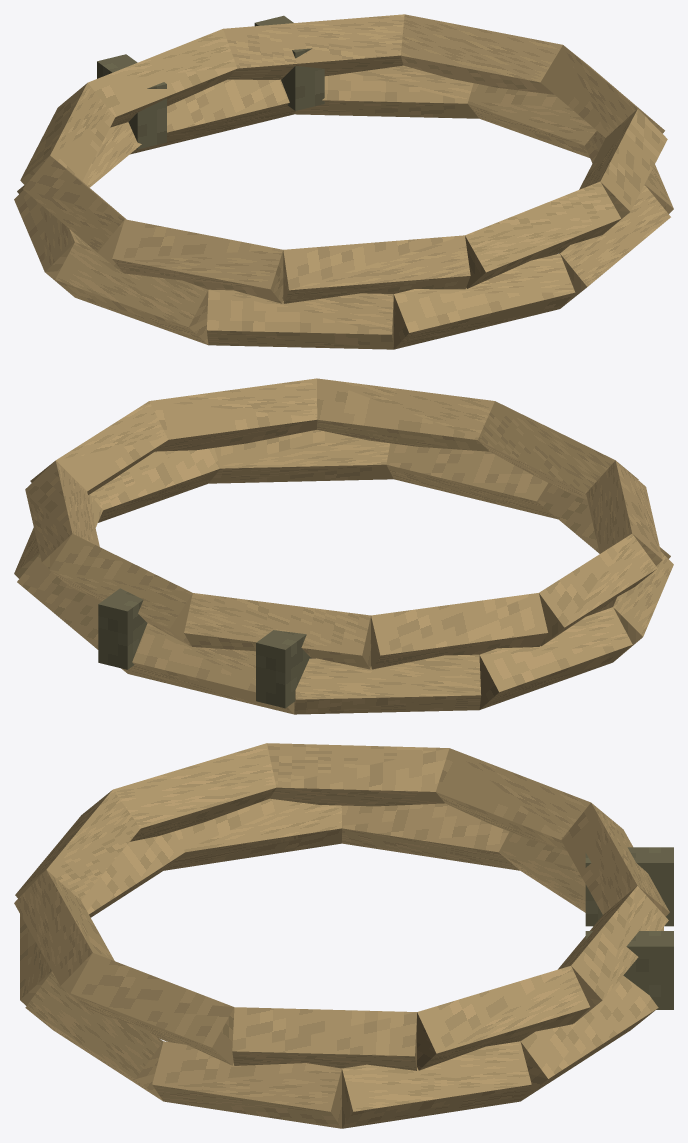
The model's file is rope_6.glb.
3 views of the same model, one above another, from view 1: azimuth 30°, elevation 25°; view 2: azimuth 150°, elevation 25°; view 3: azimuth 270°, elevation 25° (orthographic). The views are drawn at different scales.
Visible parts, largest first — view 1: block_coiled length1-1, block_coiled length0-3, block_coiled length0-2, block_coiled length1-6, block_coiled length1-2, block_coiled length1-7, block_coiled length1-0, block_coiled length0-4, block_coiled length0-8, block_coiled length1-5, block_coiled length0-7, block_coiled length0-9 (+9 smaller); view 2: block_coiled length0-6, block_coiled length1-0, block_coiled length1-4, block_coiled length1-9, block_coiled length1-5, block_coiled length0-1, block_coiled length0-5, block_coiled length0-2, block_coiled rope tie (×2), block_coiled length1-1, block_coiled length1-6, block_coiled length0-7 (+9 smaller); view 3: block_coiled length1-8, block_coiled length0-0, block_coiled length0-9, block_coiled length1-3, block_coiled length1-7, block_coiled length1-9, block_coiled length1-2, block_coiled length1-4, block_coiled length0-4, block_coiled length0-5, block_coiled length0-1, block_coiled length0-8 (+8 smaller).
Boxes of the visible parts, x1,y1,x2,y2 form: block_coiled length1-1: [283, 235, 470, 303]; block_coiled length0-3: [206, 289, 393, 349]; block_coiled length0-2: [393, 253, 575, 349]; block_coiled length1-6: [223, 14, 404, 79]; block_coiled length1-2: [112, 219, 283, 303]; block_coiled length1-7: [400, 14, 562, 94]; block_coiled length1-0: [465, 181, 621, 288]; block_coiled length0-4: [55, 242, 208, 344]; block_coiled length0-8: [294, 65, 478, 118]; block_coiled length1-5: [88, 29, 237, 127]; block_coiled length0-7: [130, 79, 295, 154]; block_coiled length0-9: [467, 83, 596, 157]; block_coiled length0-6: [294, 654, 481, 714]; block_coiled length1-0: [317, 378, 494, 451]; block_coiled length1-4: [371, 593, 547, 669]; block_coiled length1-9: [149, 378, 317, 451]; block_coiled length1-5: [184, 593, 370, 669]; block_coiled length0-1: [209, 430, 393, 483]; block_coiled length0-5: [479, 607, 632, 709]; block_coiled length0-2: [386, 443, 557, 519]; block_coiled rope tie (×2): [98, 588, 311, 708]; block_coiled length1-1: [478, 401, 638, 500]; block_coiled length1-6: [49, 534, 192, 646]; block_coiled length0-7: [123, 623, 294, 714]; block_coiled length1-8: [232, 1007, 416, 1070]; block_coiled length0-0: [152, 1041, 341, 1128]; block_coiled length0-9: [342, 1041, 531, 1128]; block_coiled length1-3: [267, 743, 449, 806]; block_coiled length1-7: [417, 966, 590, 1070]; block_coiled length1-9: [70, 953, 234, 1065]; block_coiled length1-2: [113, 743, 276, 841]; block_coiled length1-4: [436, 748, 590, 850]; block_coiled length0-4: [164, 798, 341, 870]; block_coiled length0-5: [342, 803, 519, 870]; block_coiled length0-1: [25, 971, 163, 1100]; block_coiled length0-8: [520, 975, 658, 1100].
Bounding box in the file's own units: 0.2561 × 0.0416 × 0.2292.
Materials: 1 (1 with a texture image).
